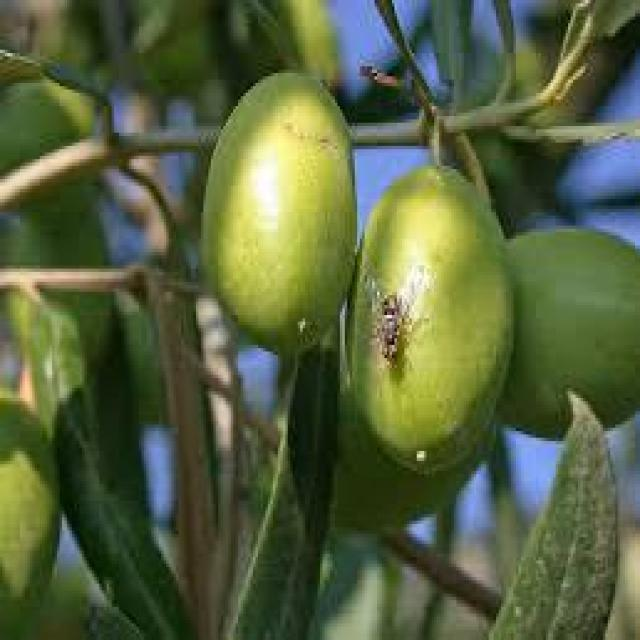Anthracnose: (350, 165, 512, 478)
